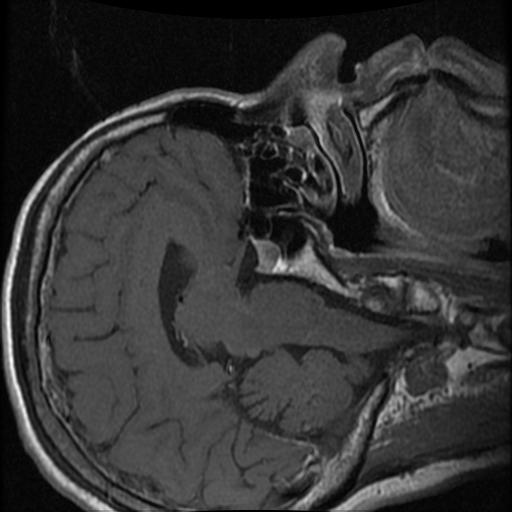pituitary tumour: (256, 239, 280, 274)
